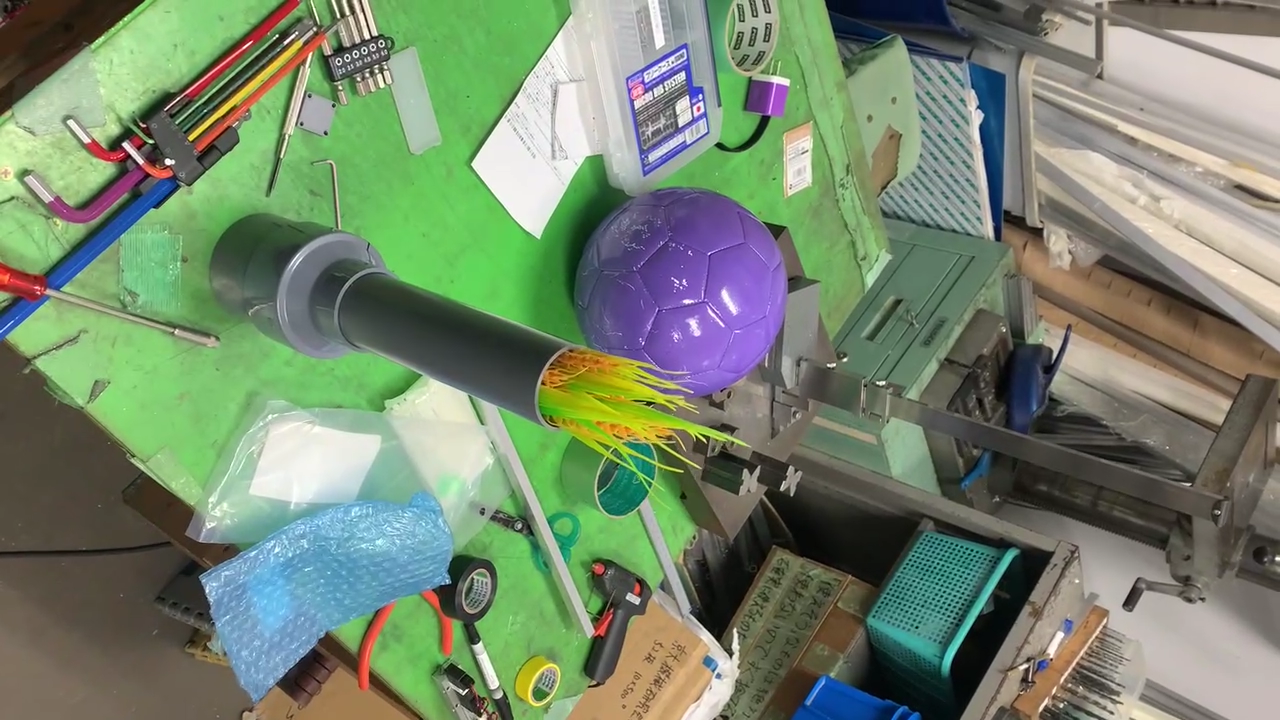purple: (579, 190, 785, 396)
